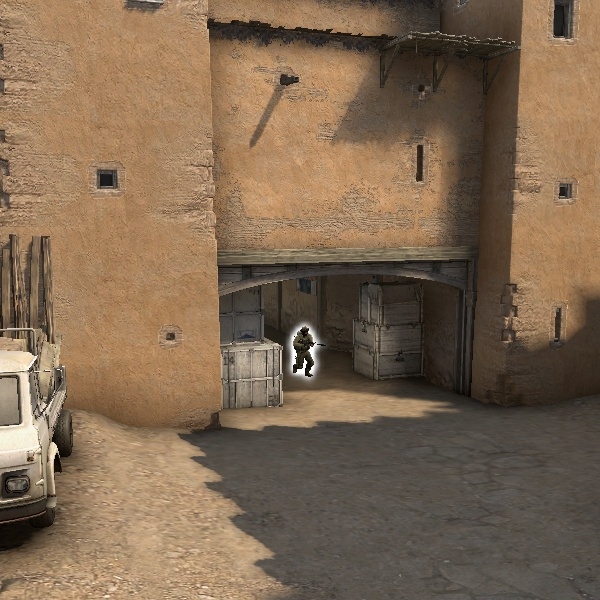ct_body: (291, 323, 318, 376)
